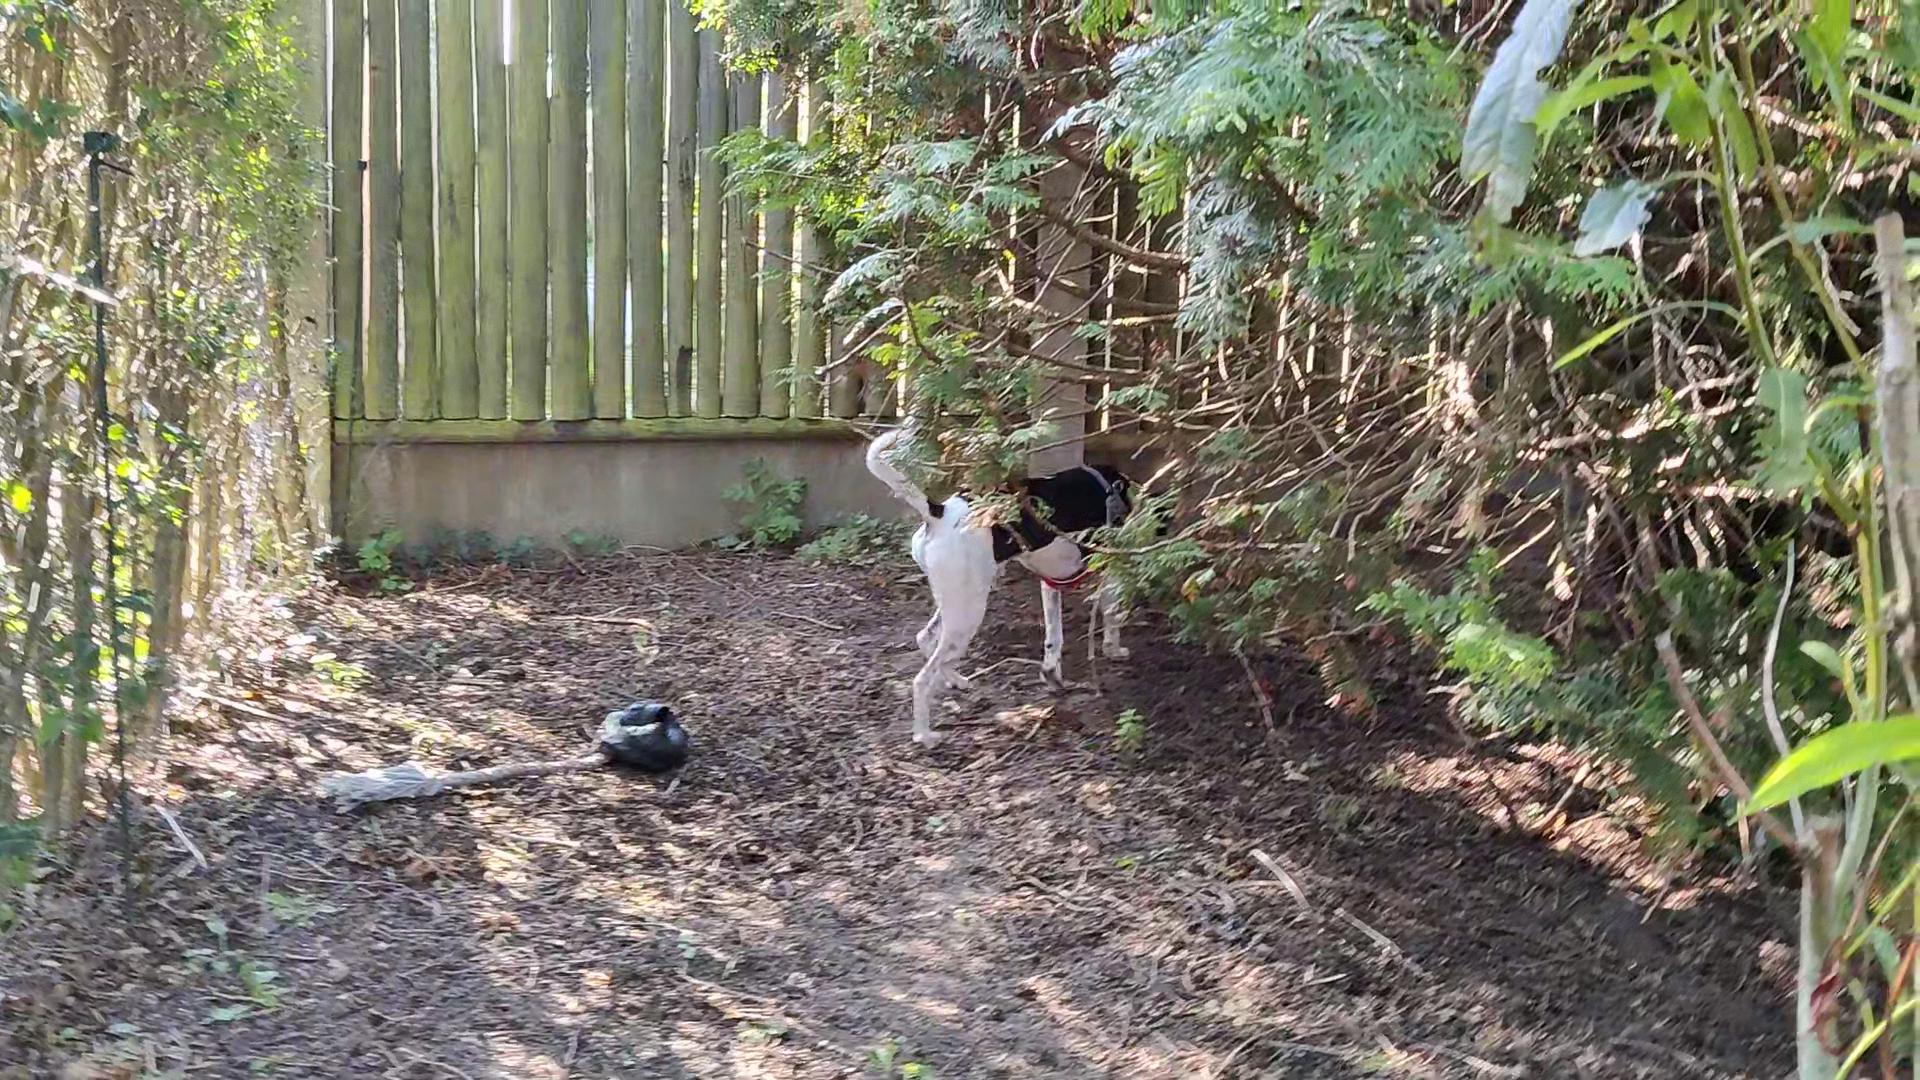Dog: (852, 419, 1179, 753)
